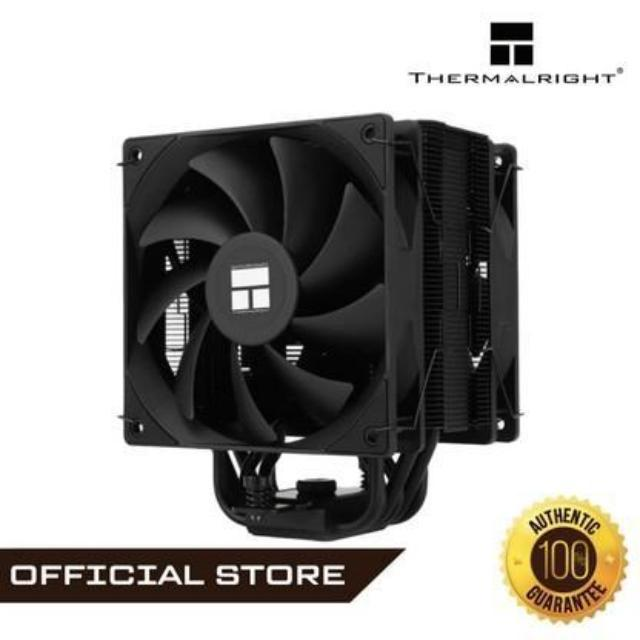CPU_Fan: (110, 106, 532, 542)
